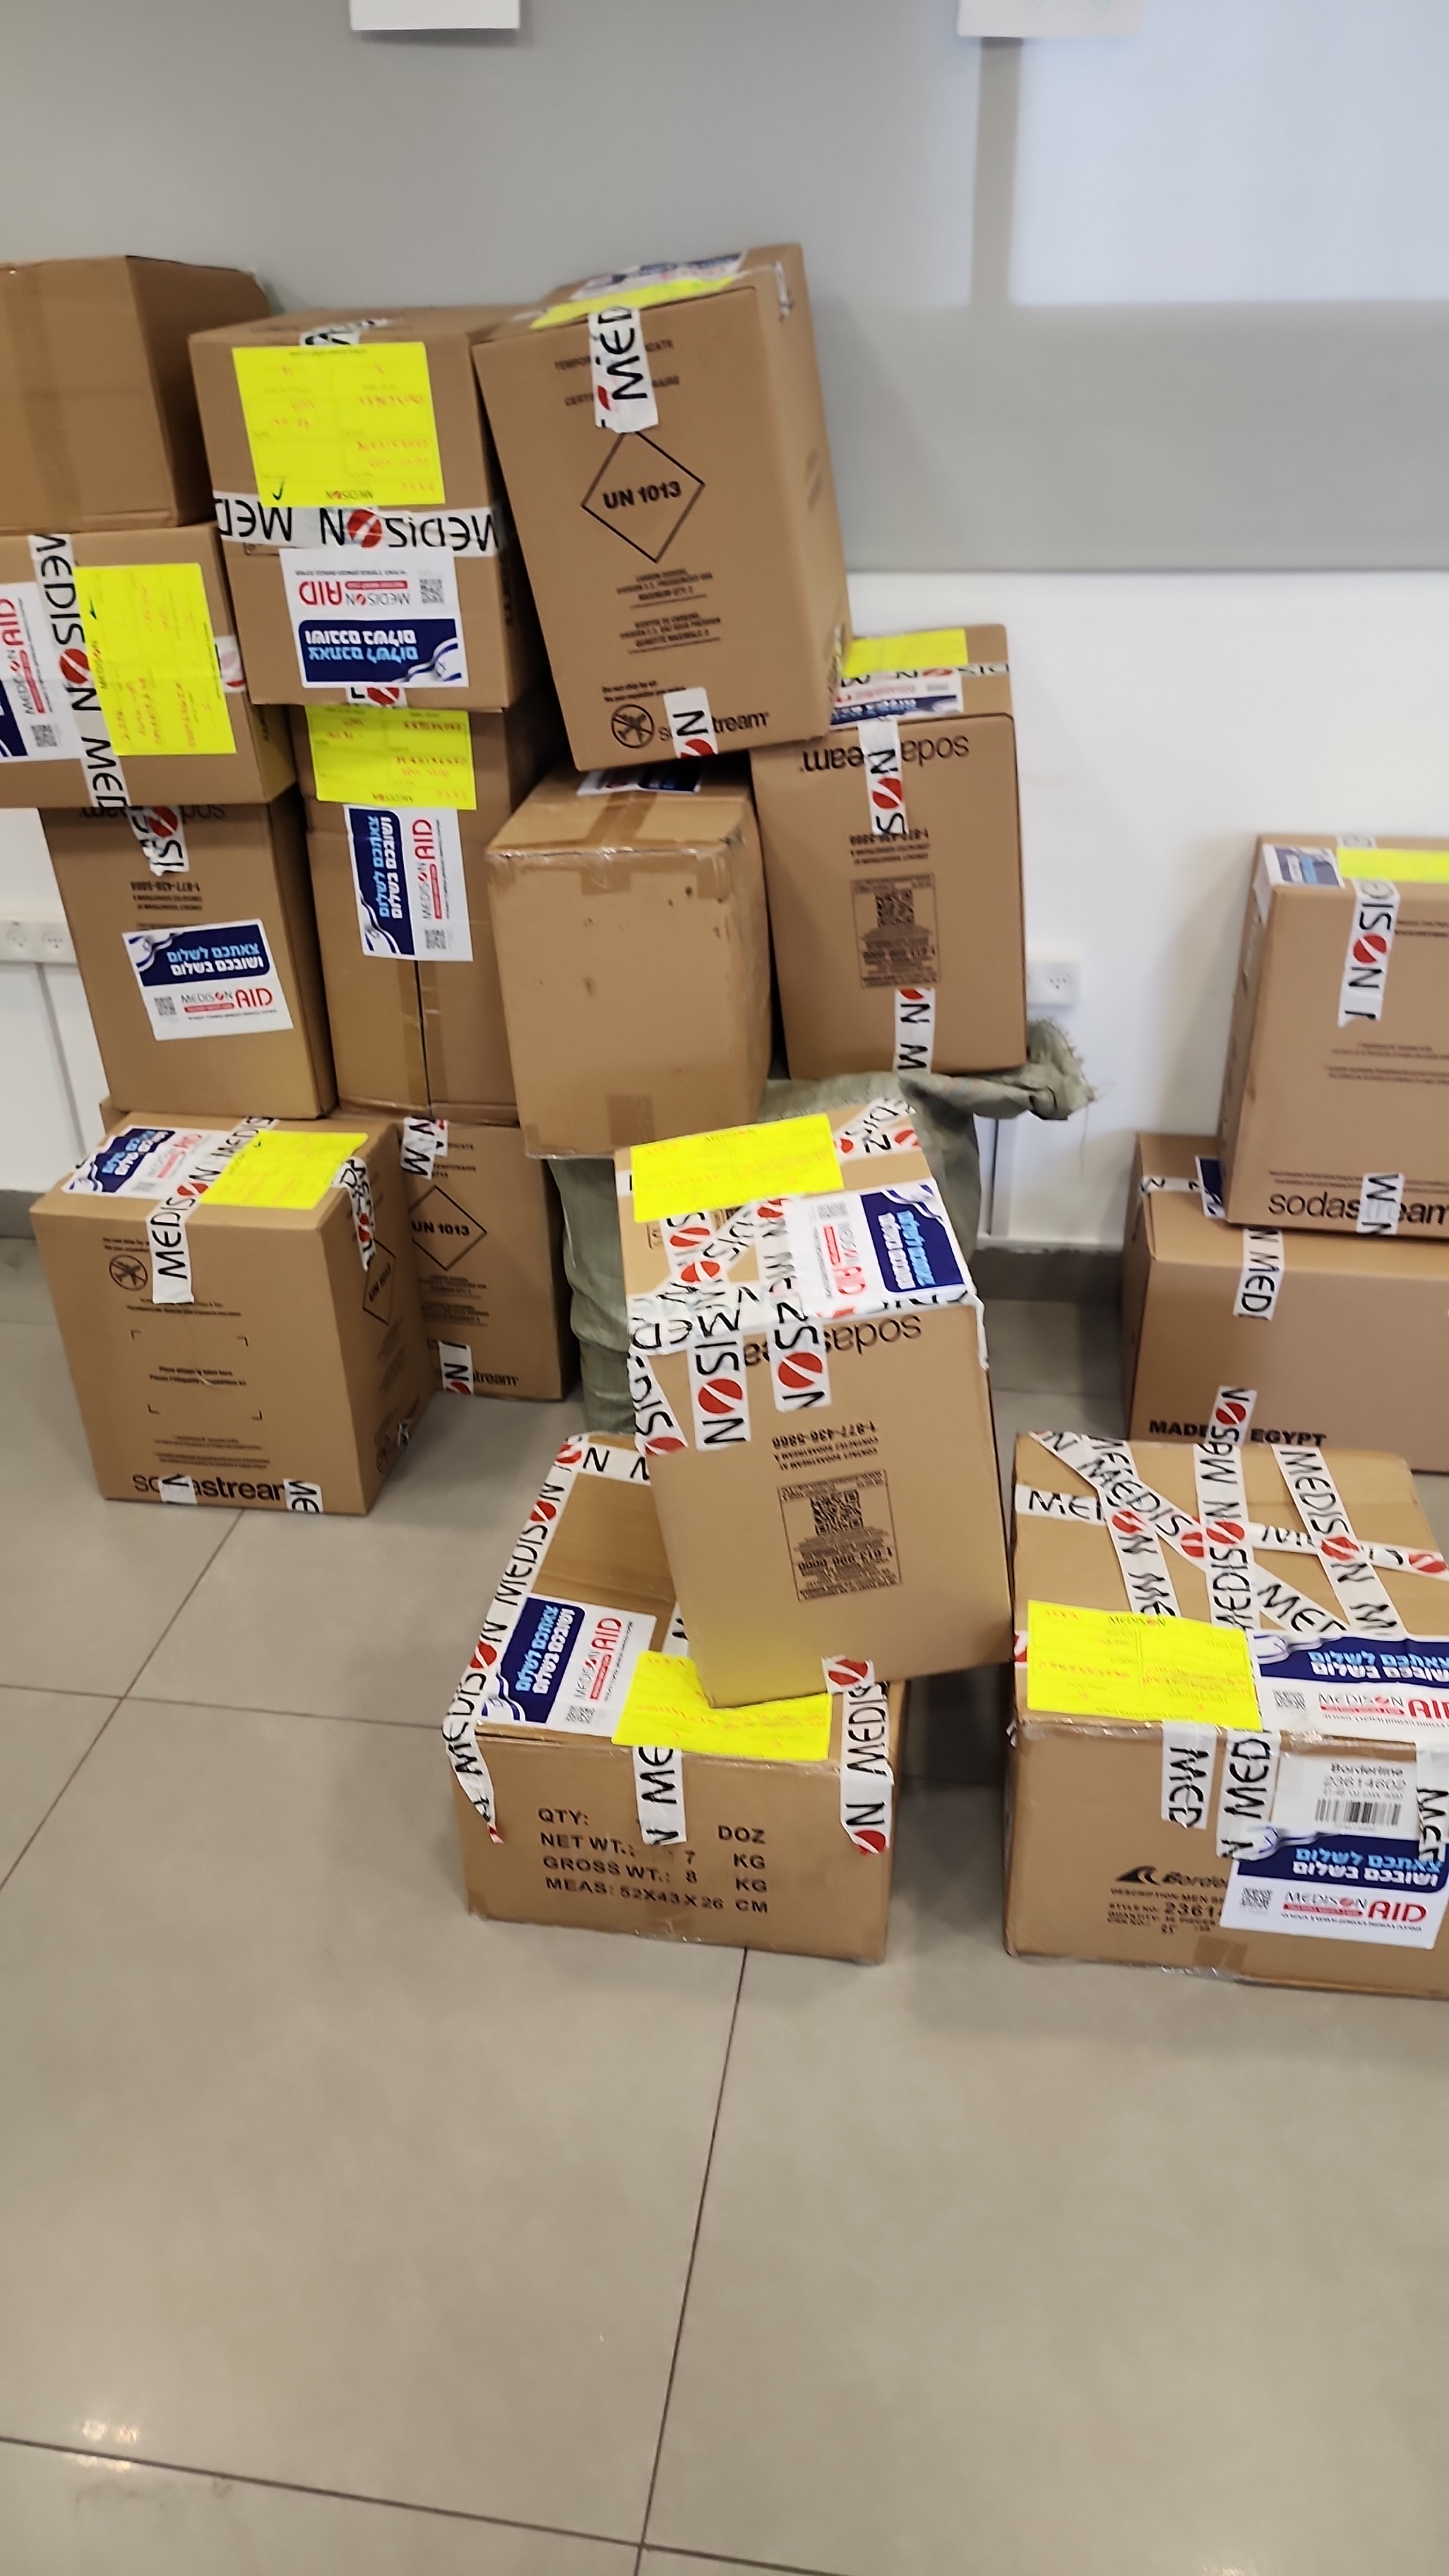box: (1008, 1272, 1447, 2093), (570, 1083, 1060, 1714), (462, 207, 924, 819), (474, 1348, 927, 1923), (127, 225, 540, 778), (715, 607, 1120, 1113), (53, 1086, 448, 1559), (451, 752, 801, 1187), (16, 778, 322, 1194), (283, 755, 570, 1143), (1246, 771, 1449, 1242), (28, 124, 225, 603)
